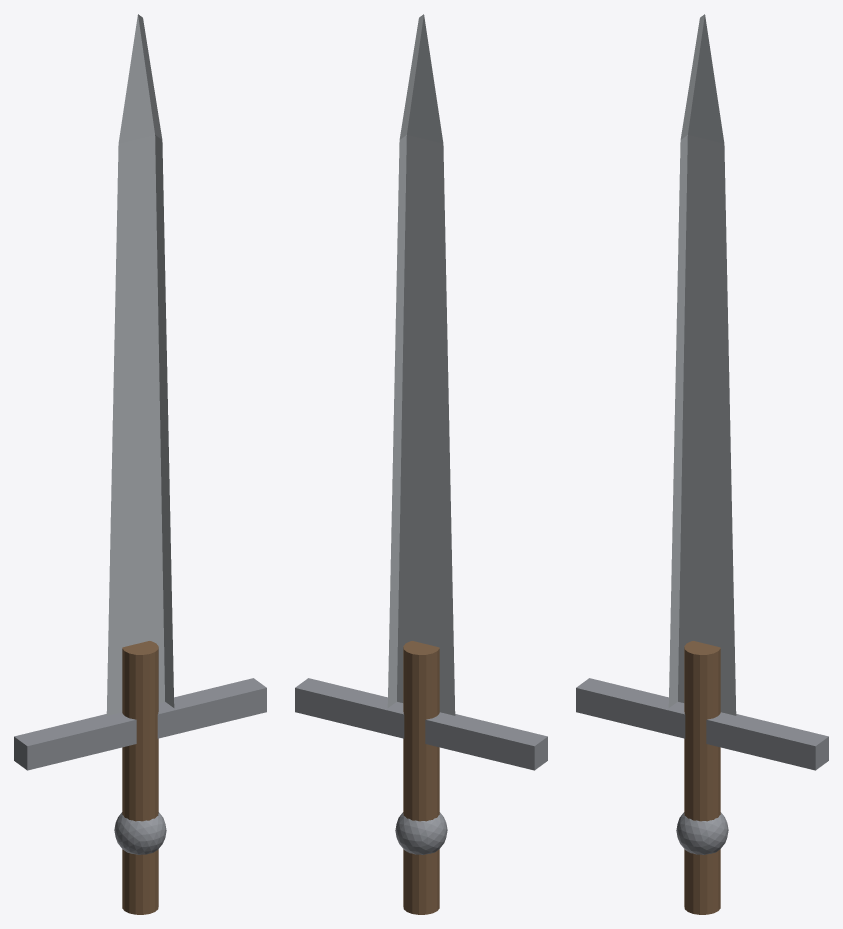
The model's file is burned_greatsword.glb.
3 renders of one model, left to right at view 1: azimuth 30°, elevation 25°; view 2: azimuth 150°, elevation 25°; view 3: azimuth 330°, elevation 25°, orthographic.
Visible parts, largest first — view 1: sword_0_0, sword_0_1, sword_0_2, sword_0_3; view 2: sword_0_0, sword_0_1, sword_0_2, sword_0_3; view 3: sword_0_0, sword_0_1, sword_0_2, sword_0_3.
Part boxes in pixels (x1,y1,x2,y2): sword_0_0: (106, 14, 174, 715); sword_0_1: (14, 678, 266, 770); sword_0_2: (122, 641, 158, 914); sword_0_3: (114, 812, 166, 854); sword_0_0: (387, 14, 455, 715); sword_0_1: (295, 678, 547, 770); sword_0_2: (403, 641, 439, 914); sword_0_3: (395, 812, 447, 854); sword_0_0: (668, 14, 736, 715); sword_0_1: (576, 678, 828, 770); sword_0_2: (684, 641, 720, 914); sword_0_3: (676, 812, 728, 854).
Bounding box in the file's own units: 2.27 × 8.07 × 0.4289.
